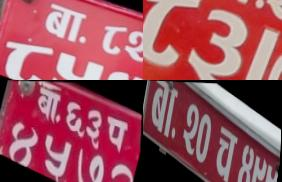0: (192, 105, 214, 168)
2: (179, 96, 203, 158), (121, 25, 143, 63), (104, 157, 136, 182), (254, 0, 282, 28)
3: (175, 0, 261, 80), (80, 104, 106, 147)
4: (4, 117, 44, 170), (234, 136, 257, 182), (94, 63, 143, 80)
5: (43, 47, 108, 80), (36, 131, 77, 182)
6: (61, 97, 89, 138)
7: (233, 19, 282, 80), (72, 144, 109, 182)
8: (143, 0, 206, 75), (0, 31, 59, 80), (94, 18, 132, 58)
9: (248, 148, 269, 182), (261, 157, 280, 182)
ba: (37, 0, 89, 45), (146, 80, 179, 143), (33, 85, 63, 124)
cha: (212, 120, 240, 182)
pa: (102, 111, 130, 152)
